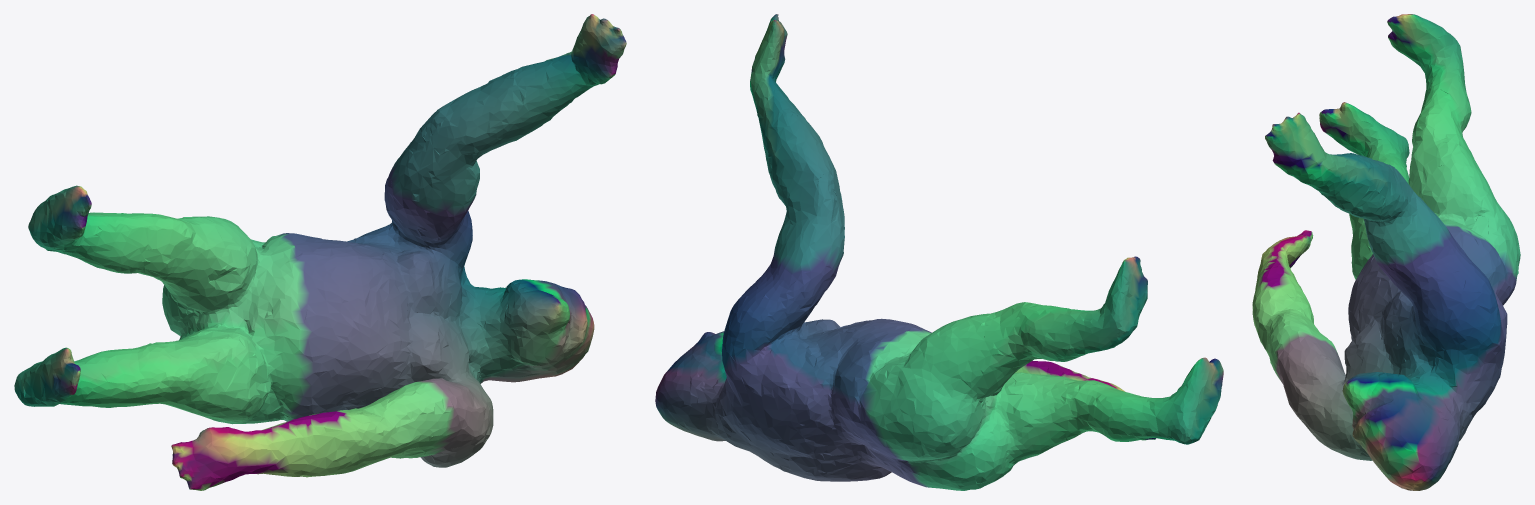
File: gorilla-19.off.obj
3 views of the same model, side by side, from view 1: azimuth 30°, elevation 25°; view 2: azimuth 150°, elevation 25°; view 3: azimuth 270°, elevation 25° (orthographic). The views are drawn at different scales.
Size of the model in its own units: 1.42 by 1.04 by 0.6405.
